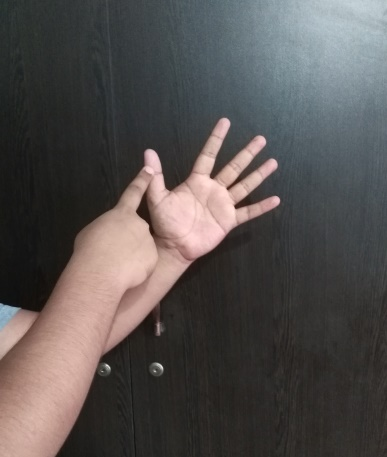a: (101, 117, 283, 276)
